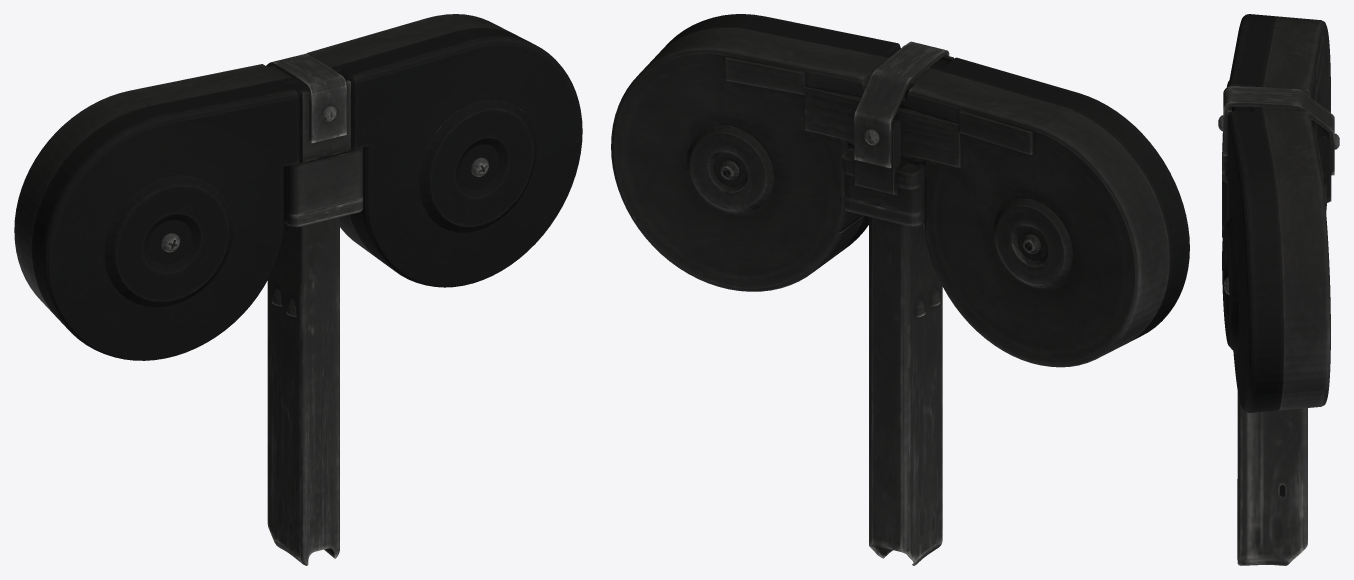
The picture shows the model from 3 angles, left to right: view 1: azimuth 30°, elevation 25°; view 2: azimuth 150°, elevation 25°; view 3: azimuth 270°, elevation 25°; orthographic projection. The views are drawn at different scales.
Visible parts, largest first — view 1: TW_676176a162e0497044079f46_PZ_Import; view 2: TW_676176a162e0497044079f46_PZ_Import; view 3: TW_676176a162e0497044079f46_PZ_Import.
Part boxes in pixels (left/top/right/bottom): TW_676176a162e0497044079f46_PZ_Import: left=14, top=14, right=582, bottom=565; TW_676176a162e0497044079f46_PZ_Import: left=611, top=14, right=1189, bottom=565; TW_676176a162e0497044079f46_PZ_Import: left=1218, top=14, right=1339, bottom=565.
Bounding box in the file's own units: 0.1622 × 0.0332 × 0.1399.
1 material, 1 textured.
